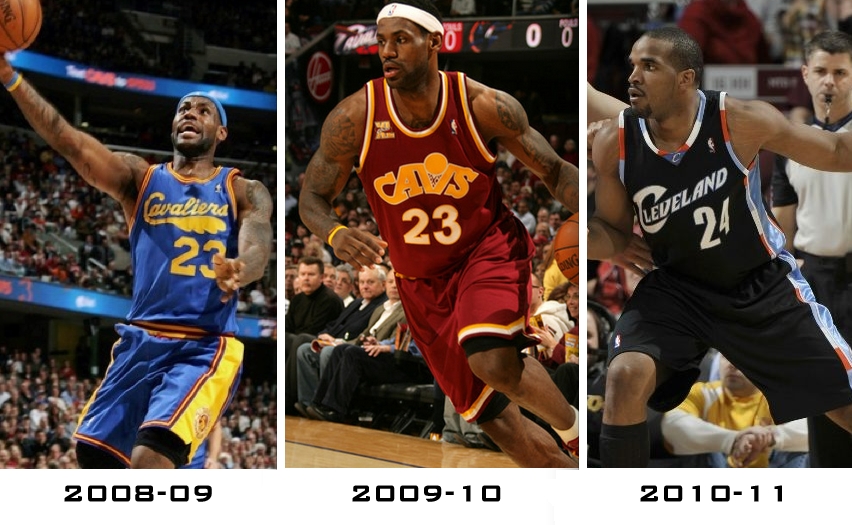ball: (1, 2, 42, 54)
player: (303, 3, 578, 466), (600, 32, 843, 463), (1, 76, 269, 466)
